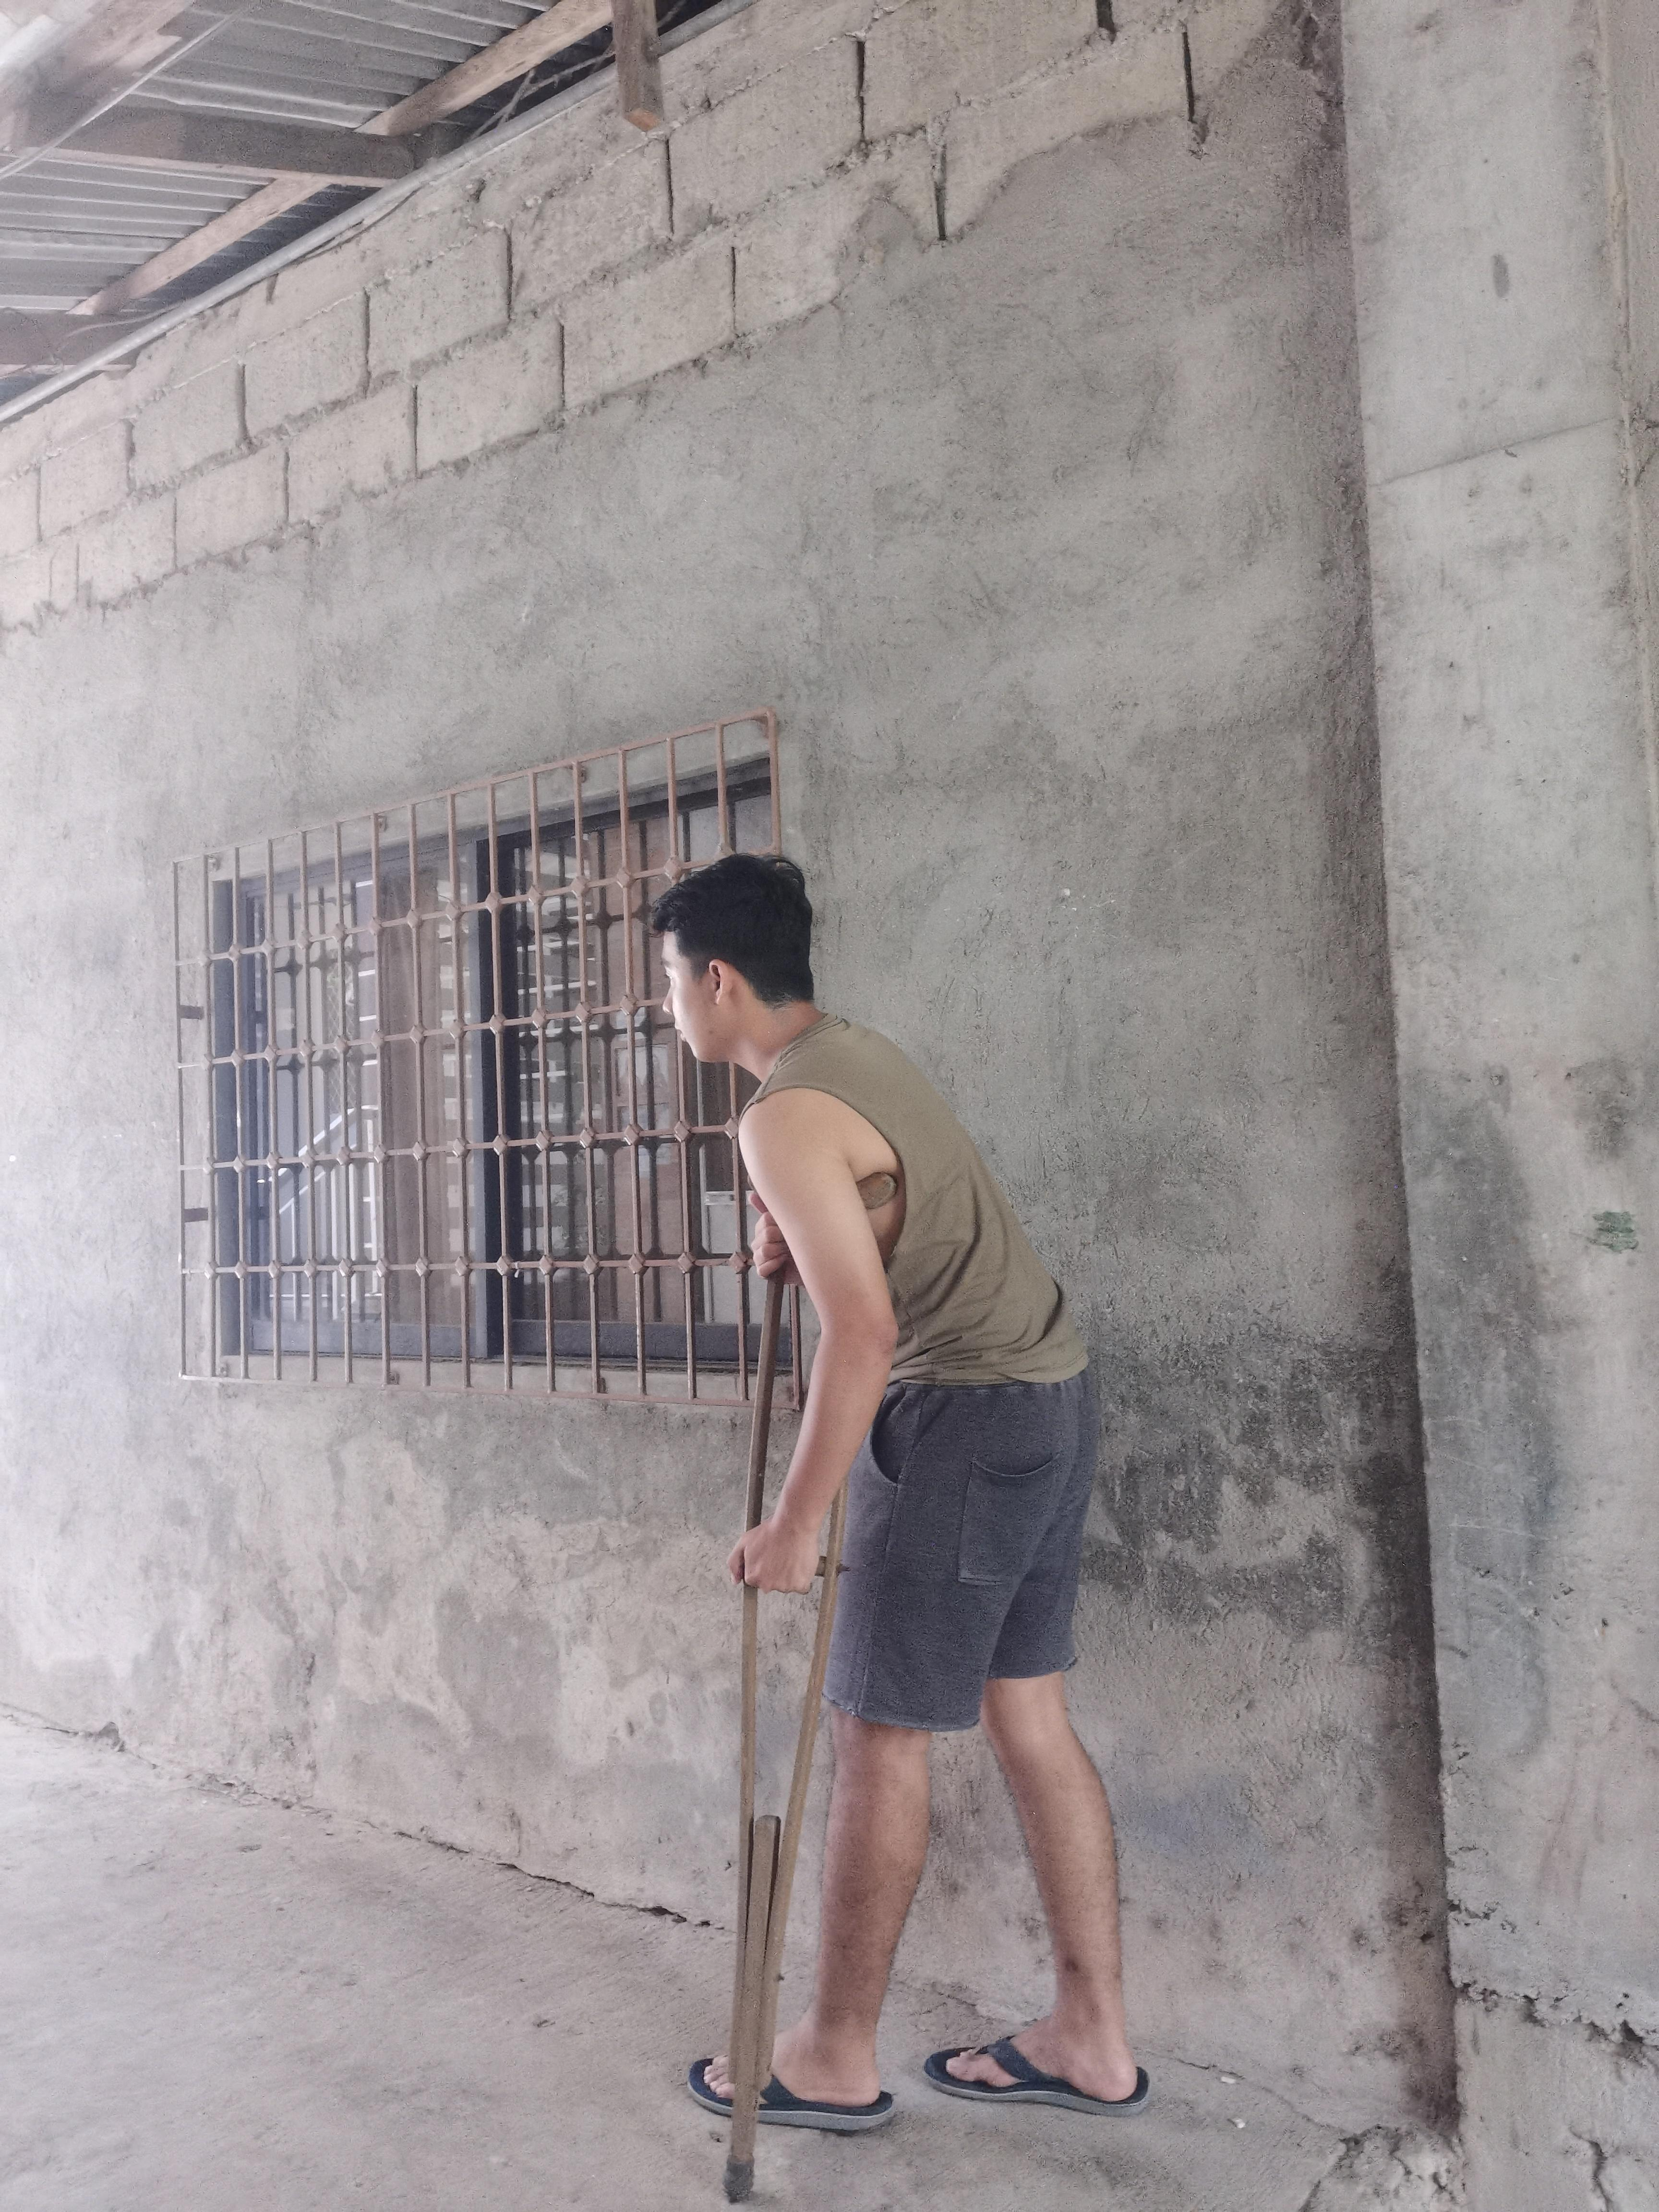crutches: (634, 836, 1168, 2212)
